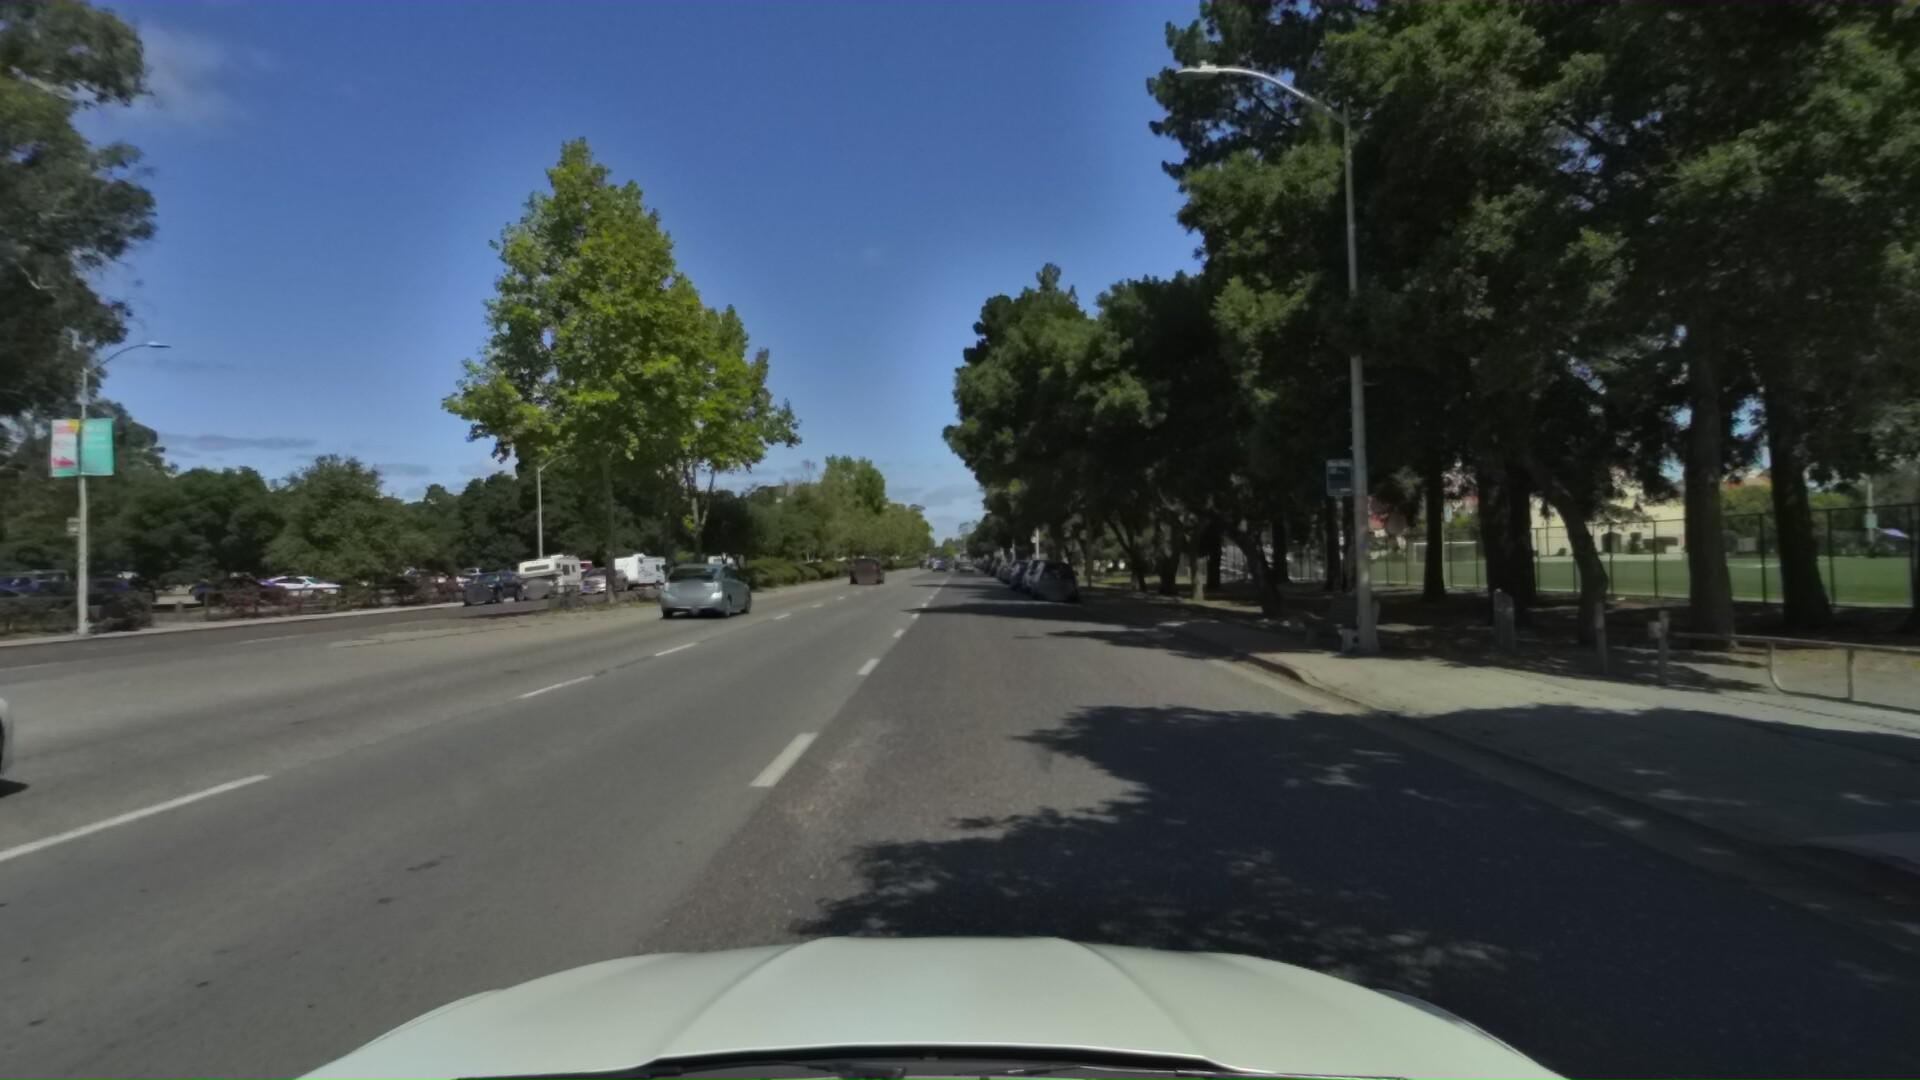car: (0, 564, 53, 1080), (655, 559, 757, 622), (452, 563, 527, 603), (1029, 551, 1081, 597), (1021, 547, 1067, 589), (572, 558, 629, 589), (1007, 554, 1048, 587), (847, 553, 884, 585), (1004, 549, 1036, 580), (998, 550, 1027, 576)
other_vehicle: (501, 545, 585, 603), (595, 545, 669, 593)
